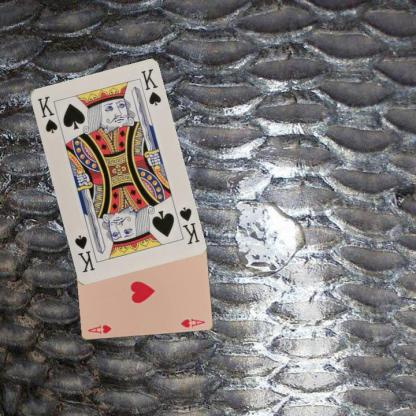Ah: (86, 322, 113, 336)
Ks: (34, 93, 59, 135), (176, 204, 201, 246)
